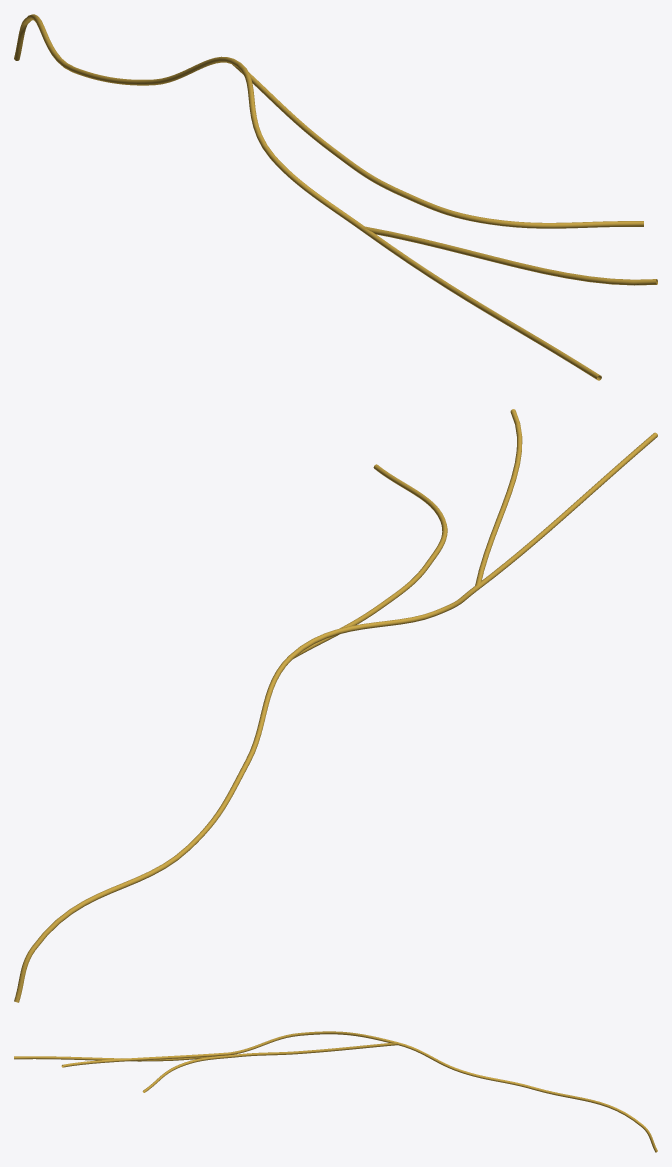
3 views of the same model, one above another, from view 1: azimuth 30°, elevation 25°; view 2: azimuth 150°, elevation 25°; view 3: azimuth 270°, elevation 25° (orthographic). The views are drawn at different scales.
Parts seen in each view (by area): view 1: 右侧闭孔神经; view 2: 右侧闭孔神经; view 3: 右侧闭孔神经.
Part boxes in pixels (x1=…): 右侧闭孔神经: x1=14, y1=14, x2=657, y2=380; 右侧闭孔神经: x1=14, y1=409, x2=657, y2=1002; 右侧闭孔神经: x1=14, y1=1031, x2=657, y2=1152.
Bounding box in the file's own units: 0.0645 × 0.0571 × 0.3213.
